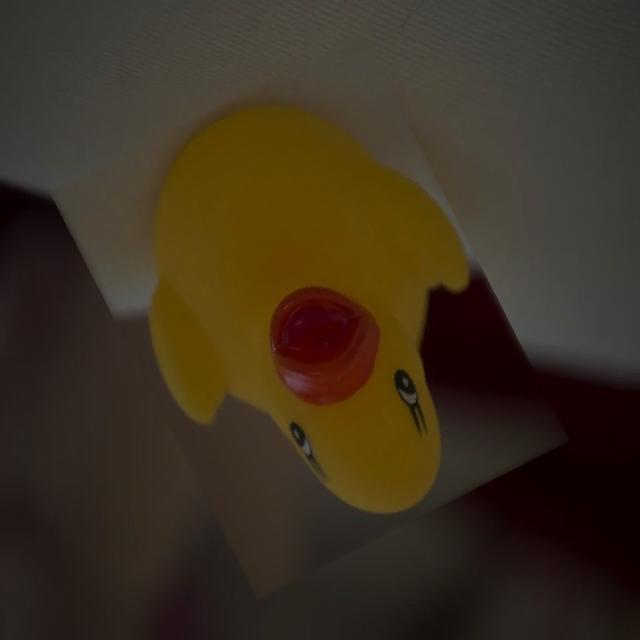rubber-duck: (149, 104, 467, 592), (268, 288, 342, 388)
